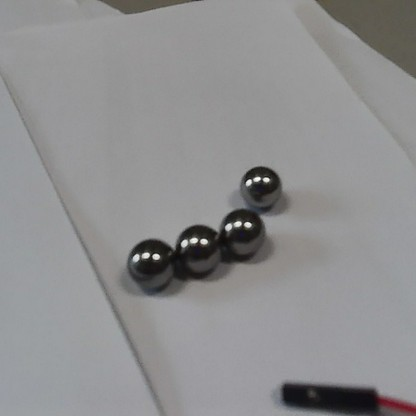ironball: (173, 219, 225, 280), (126, 234, 177, 296), (217, 207, 269, 260), (236, 163, 284, 213)
